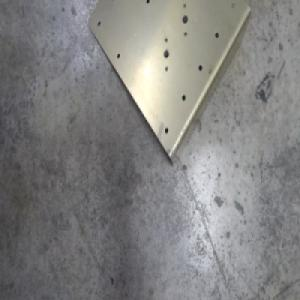MetalSheet: (88, 0, 252, 169)
